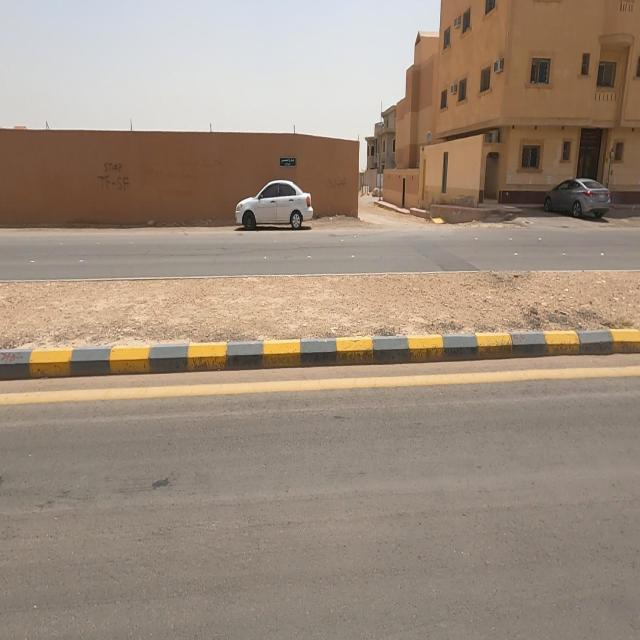Graffiti: (98, 160, 129, 193), (327, 173, 348, 188)
